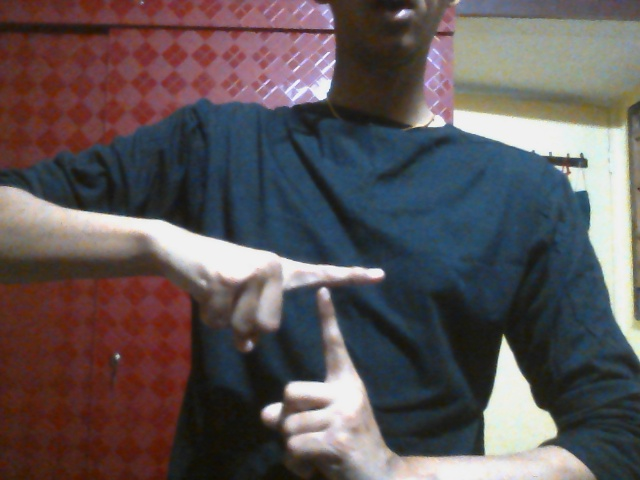T: (192, 231, 407, 480)
